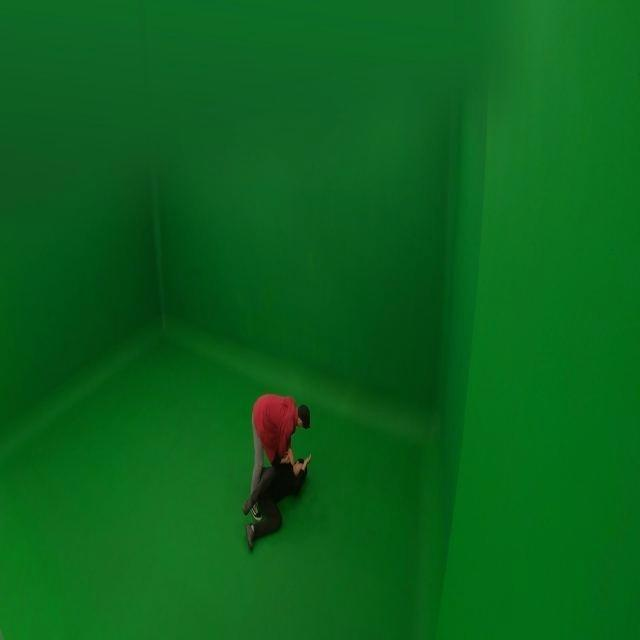fight: (240, 386, 313, 547)
